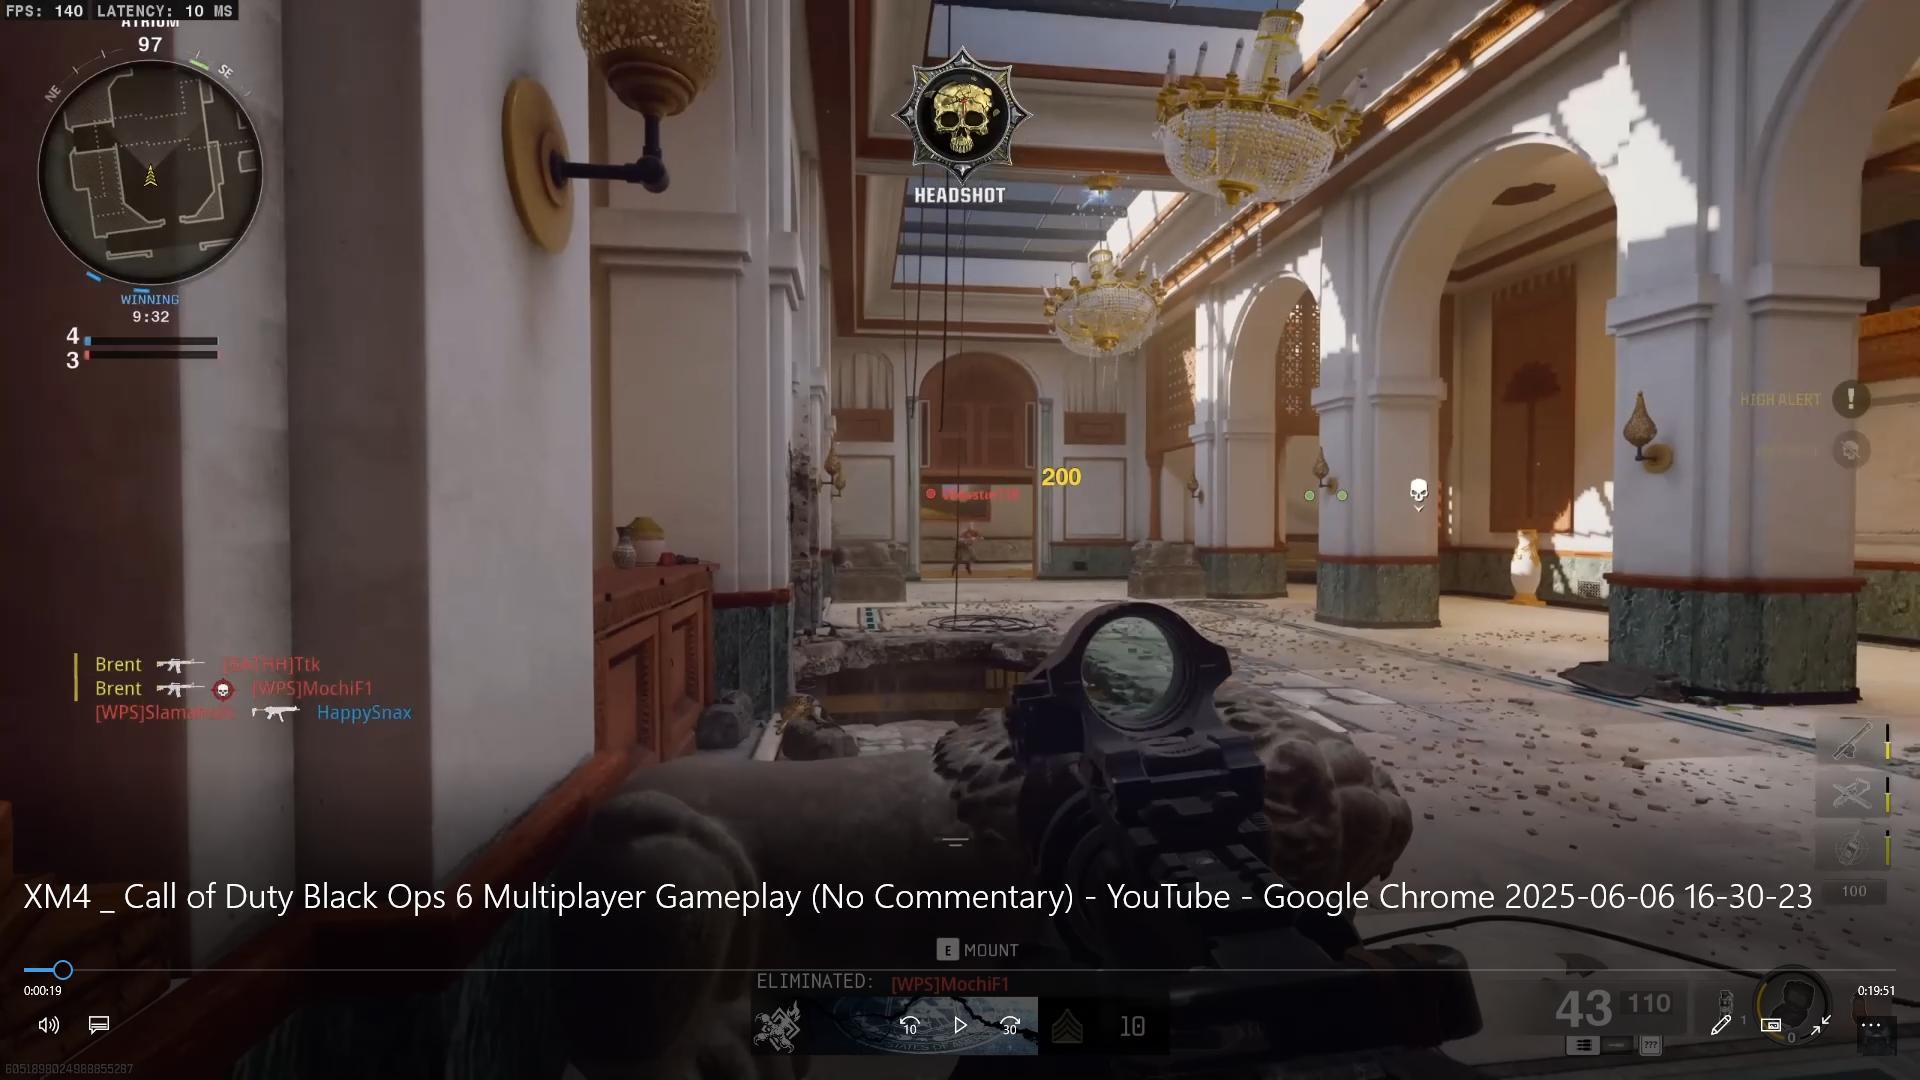Enemy: (924, 480, 1007, 588)
